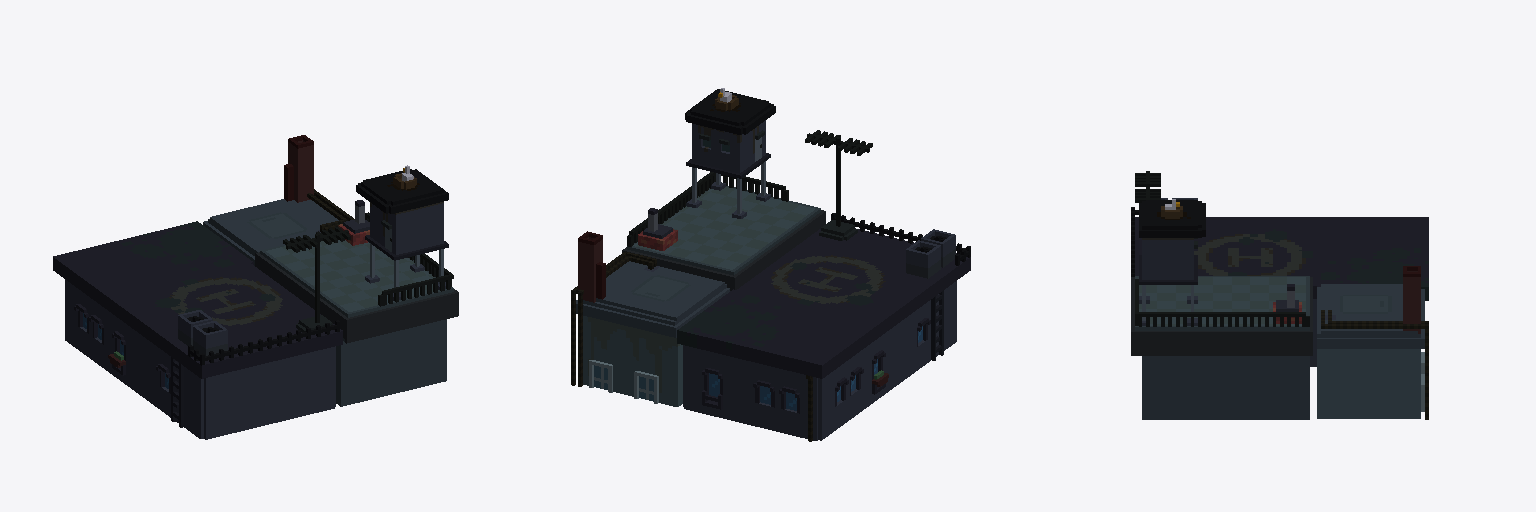
3 renders of one model, left to right at view 1: azimuth 30°, elevation 25°; view 2: azimuth 150°, elevation 25°; view 3: azimuth 270°, elevation 25°, orthographic.
Visible parts, largest first — view 1: object 1; view 2: object 1; view 3: object 1.
Part boxes in pixels (left/top/right/bottom): object 1: left=53, top=135, right=458, bottom=439; object 1: left=571, top=88, right=970, bottom=441; object 1: left=1131, top=171, right=1428, bottom=419.
Size of the model in its own units: 8 by 6.2 by 8.
Materials: 1 (1 with a texture image).